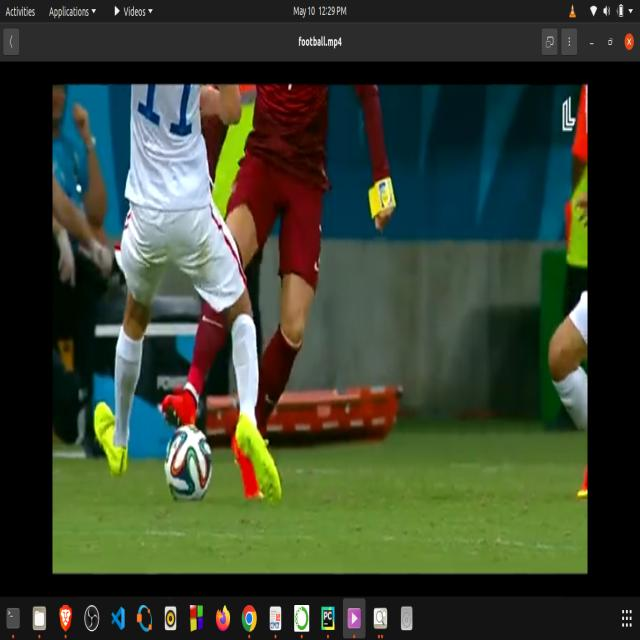Ball: (154, 417, 218, 509)
football-players: (86, 81, 293, 503), (192, 76, 390, 422), (549, 78, 591, 506)
